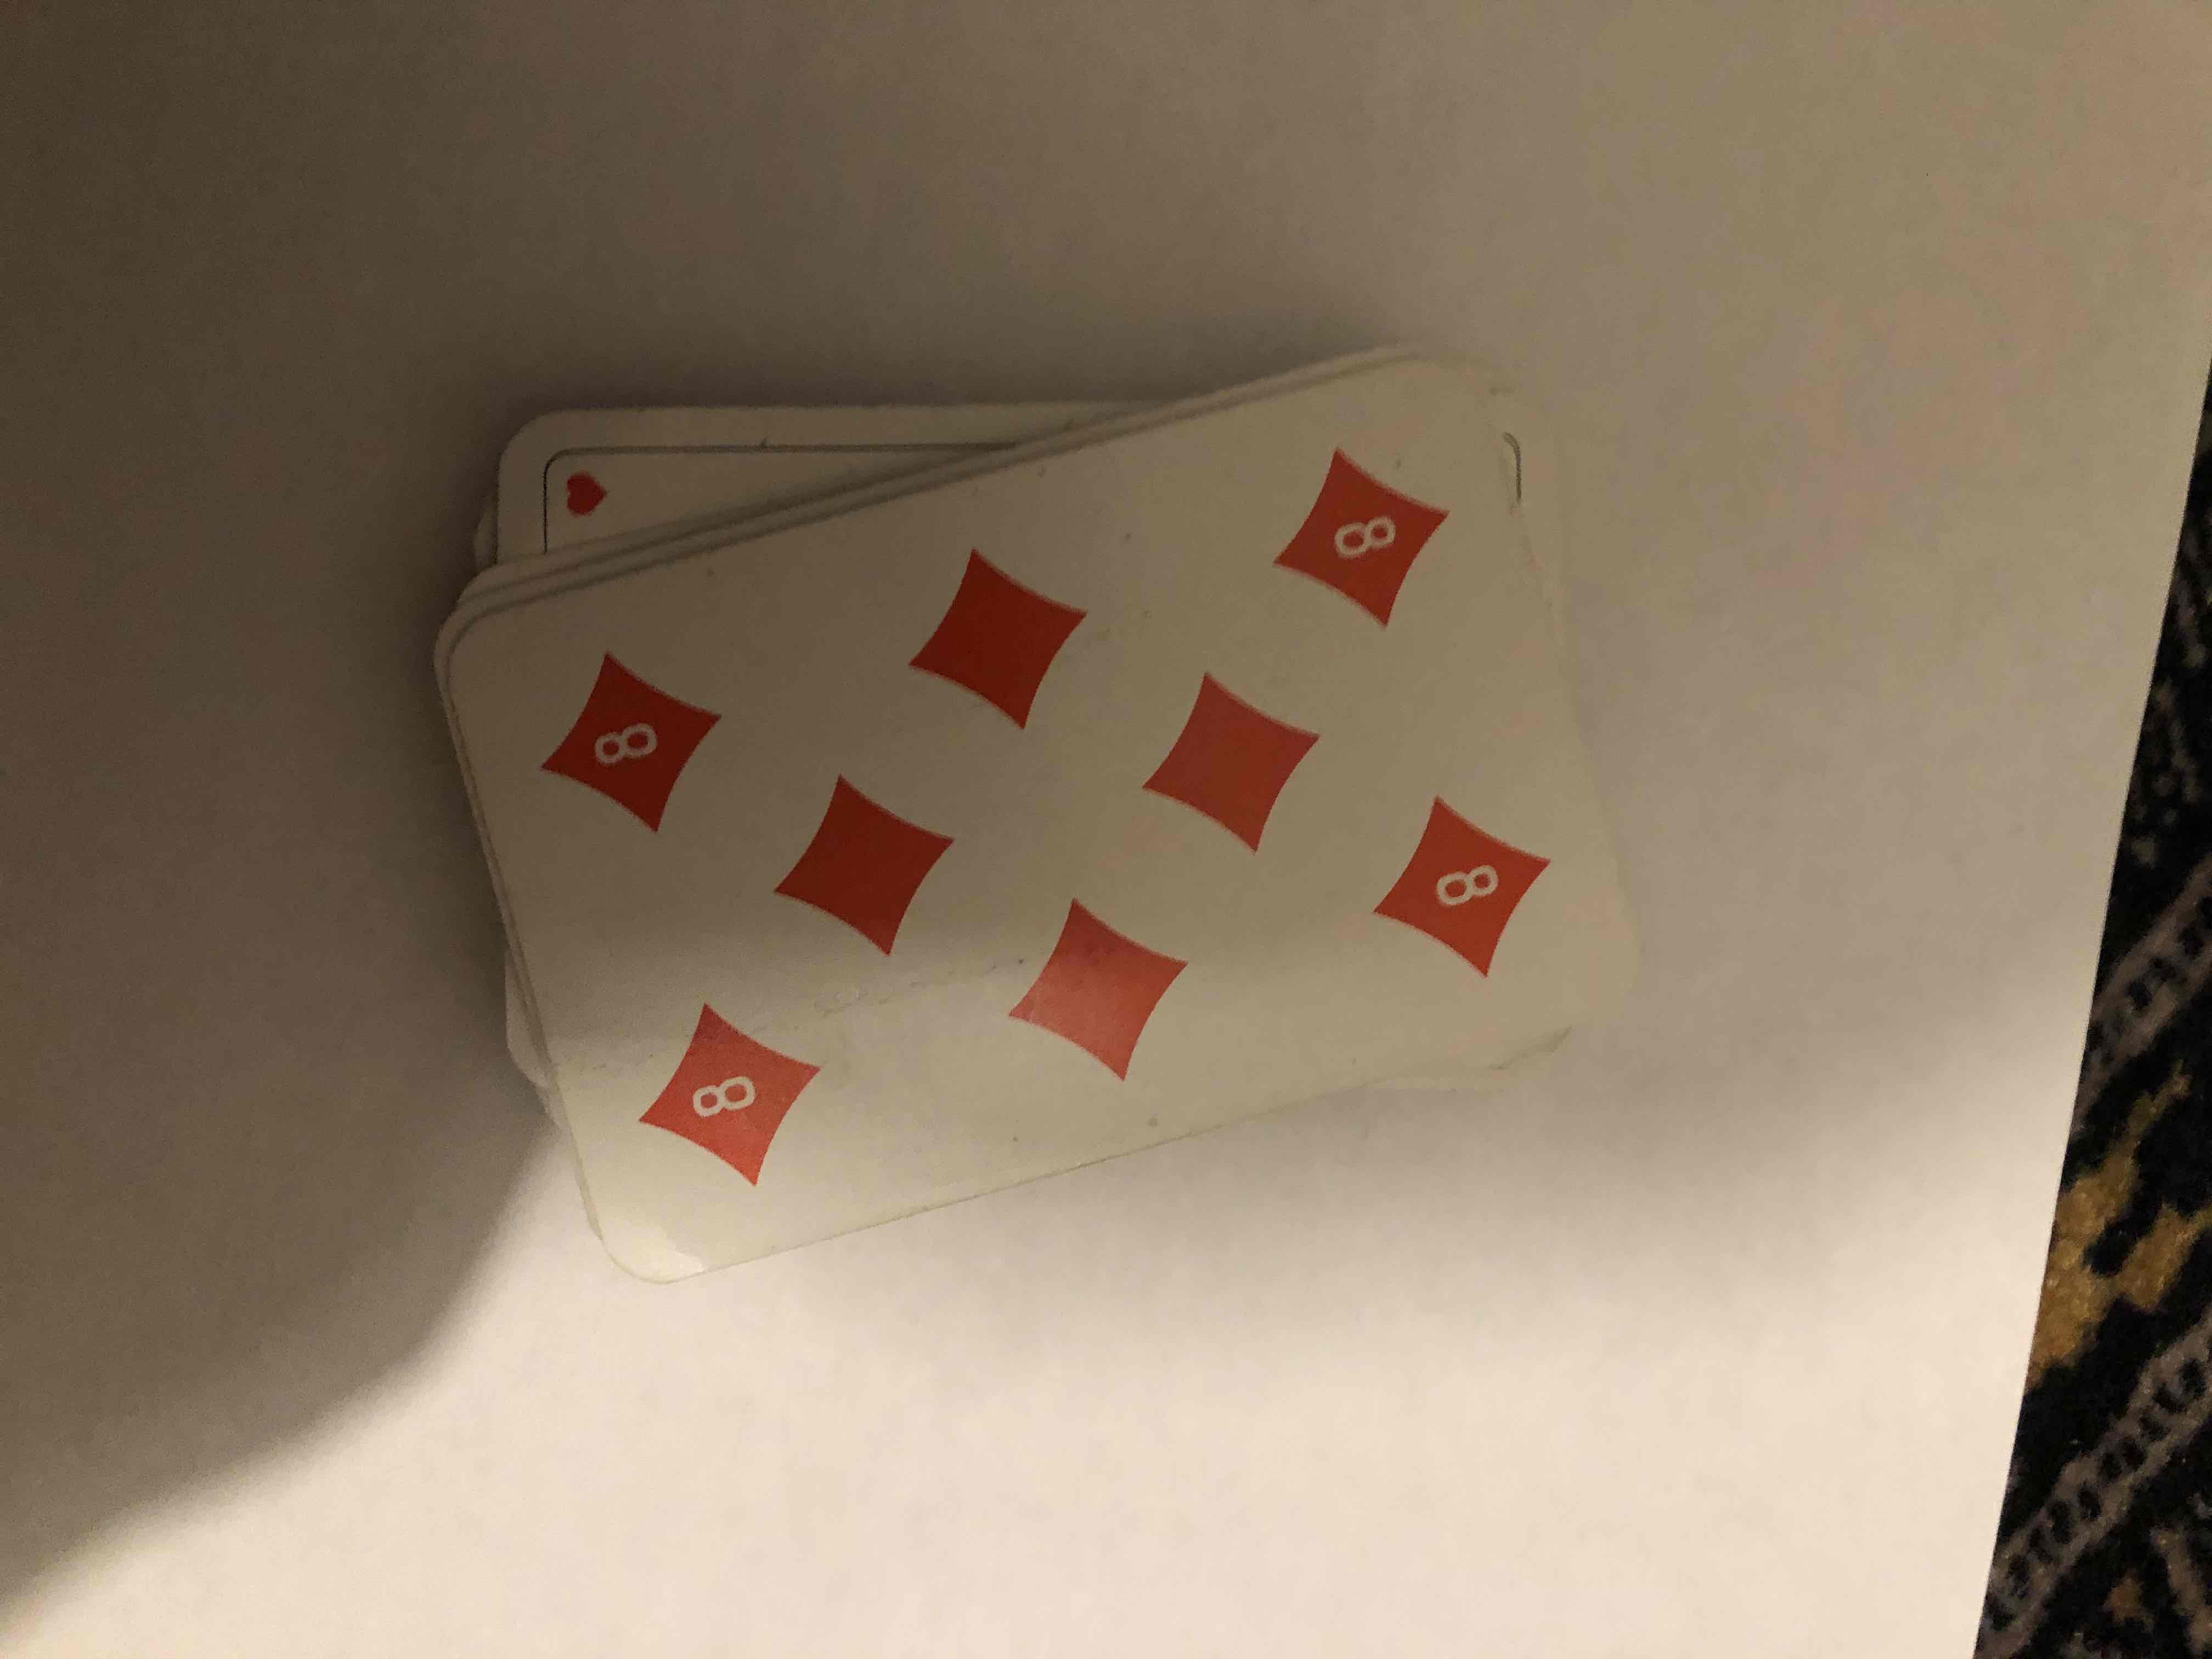diamond8: (542, 519, 1658, 1236)
